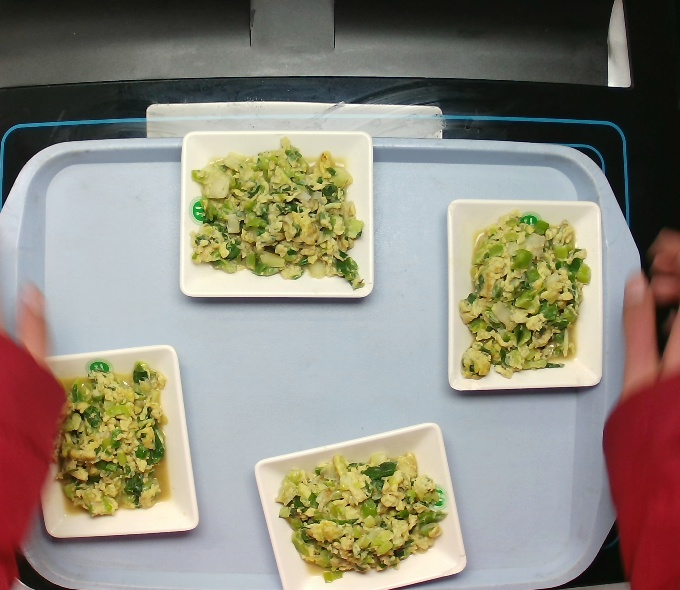wcq-SuanMiaoChaoDan: (191, 133, 369, 278), (49, 360, 176, 525), (462, 214, 589, 379), (282, 449, 438, 576)
